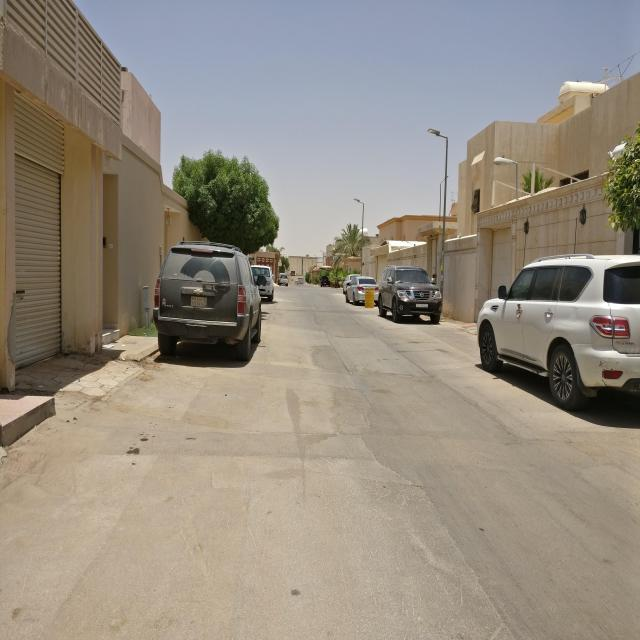license_plate: (191, 295, 207, 308), (416, 303, 428, 308)
